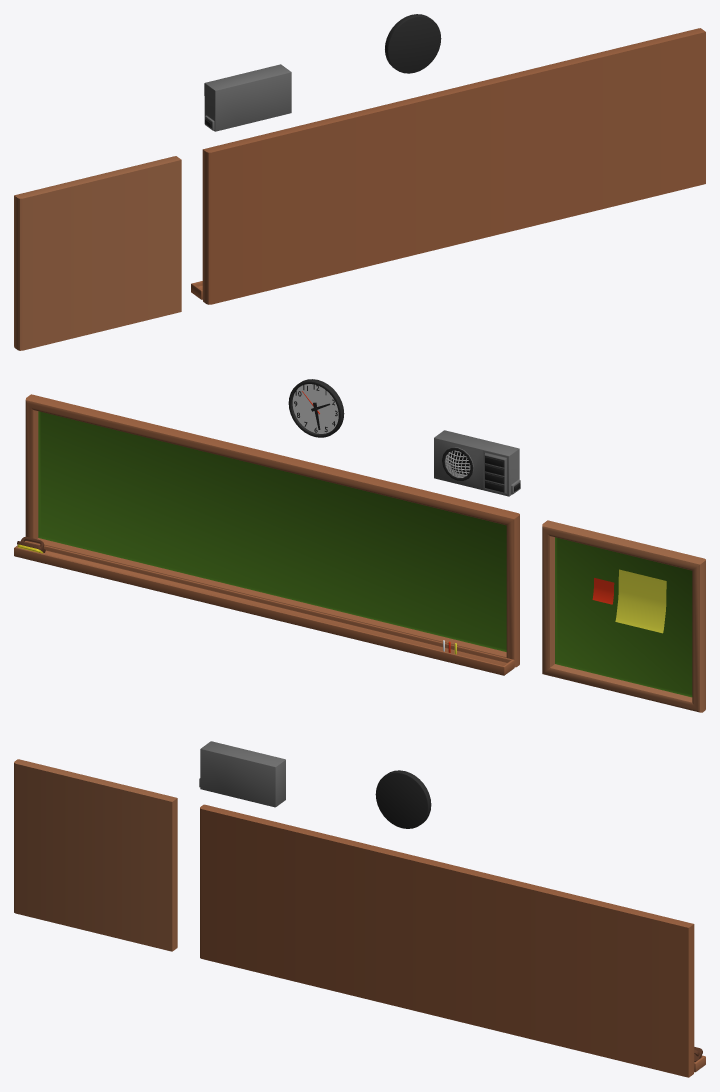
File: LavagnaOrologio.glb
3 renders of one model, top to bottom at view 1: azimuth 30°, elevation 25°; view 2: azimuth 150°, elevation 25°; view 3: azimuth 330°, elevation 25°, orthographic.
Parts seen in each view (by area): view 1: demoscene, demoscene_1, demoscene_11, demoscene_2; view 2: demoscene, demoscene_1, demoscene_11, demoscene_2; view 3: demoscene, demoscene_1, demoscene_11, demoscene_2.
Boxes of the visible parts, box(x1,y1,x2,y2) form: demoscene: box(191, 28, 705, 304); demoscene_1: box(14, 156, 181, 350); demoscene_11: box(204, 64, 291, 131); demoscene_2: box(385, 14, 441, 73); demoscene: box(14, 394, 519, 675); demoscene_1: box(542, 520, 705, 712); demoscene_11: box(434, 430, 520, 496); demoscene_2: box(288, 379, 344, 437); demoscene: box(200, 804, 705, 1077); demoscene_1: box(14, 759, 177, 951); demoscene_11: box(199, 741, 285, 807); demoscene_2: box(375, 770, 431, 828).
Size of the model in its own units: 6.27 by 2.08 by 0.329.
2 materials, 2 textured.
